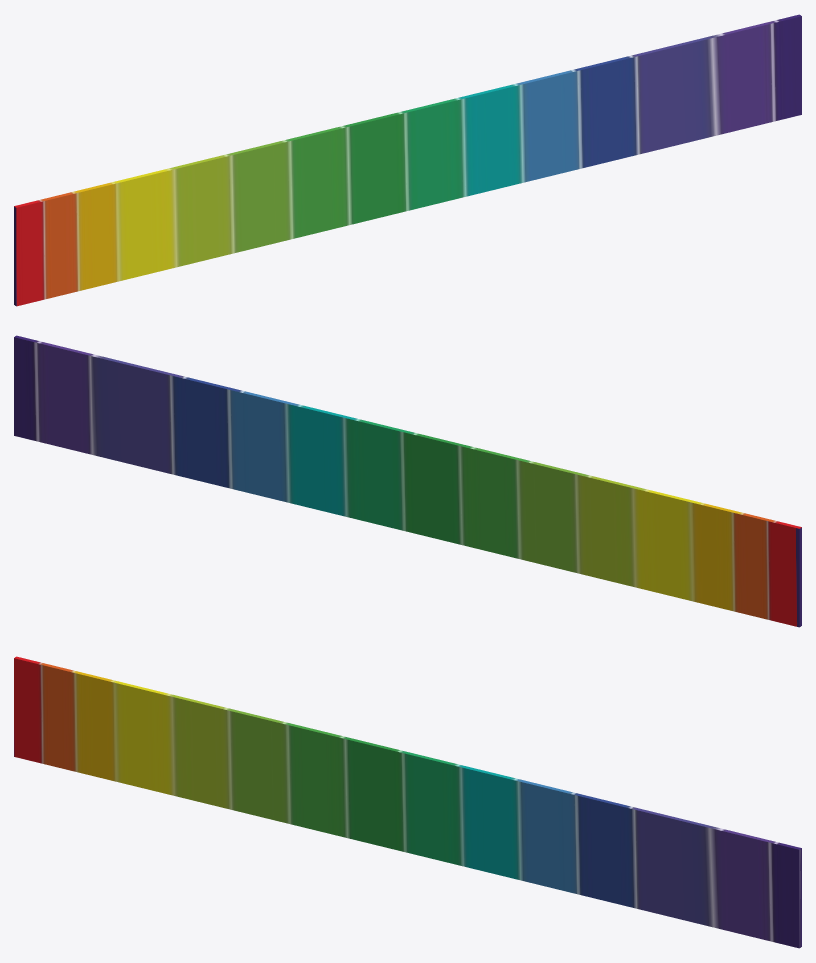
Rendered from main_ph_scale.fbx.
3 views of the same model, one above another, from view 1: azimuth 30°, elevation 25°; view 2: azimuth 150°, elevation 25°; view 3: azimuth 330°, elevation 25° (orthographic).
Visible parts, largest first — view 1: ph_scale1; view 2: ph_scale1; view 3: ph_scale1.
Boxes of the visible parts, box(x1,y1,x2,y2) form: ph_scale1: box(14, 14, 801, 306); ph_scale1: box(14, 335, 801, 627); ph_scale1: box(14, 656, 801, 948).
Size of the model in its own units: 15.88 by 1.9 by 0.0824.
Materials: 1 (1 with a texture image).
